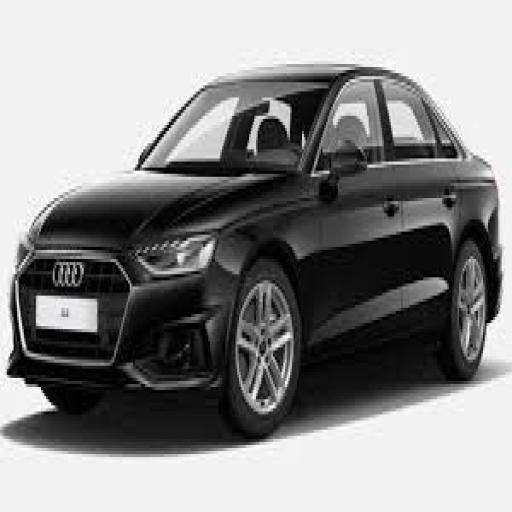car: (1, 36, 512, 471)
